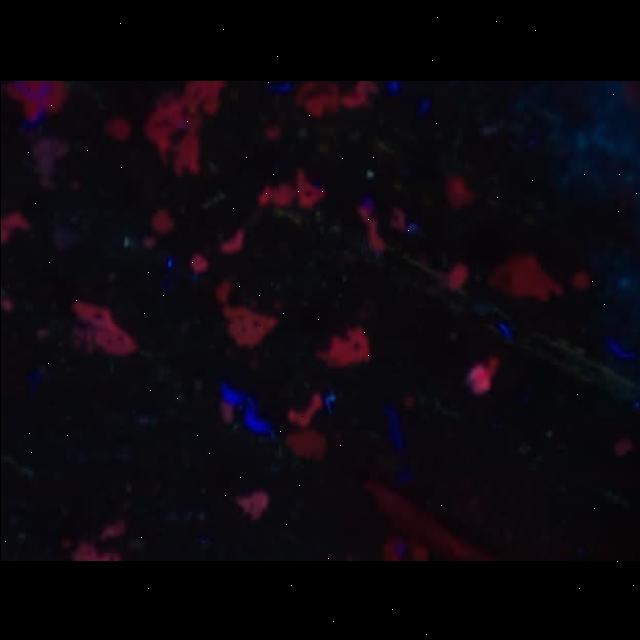Fragment: (70, 297, 134, 355), (466, 356, 498, 394)
